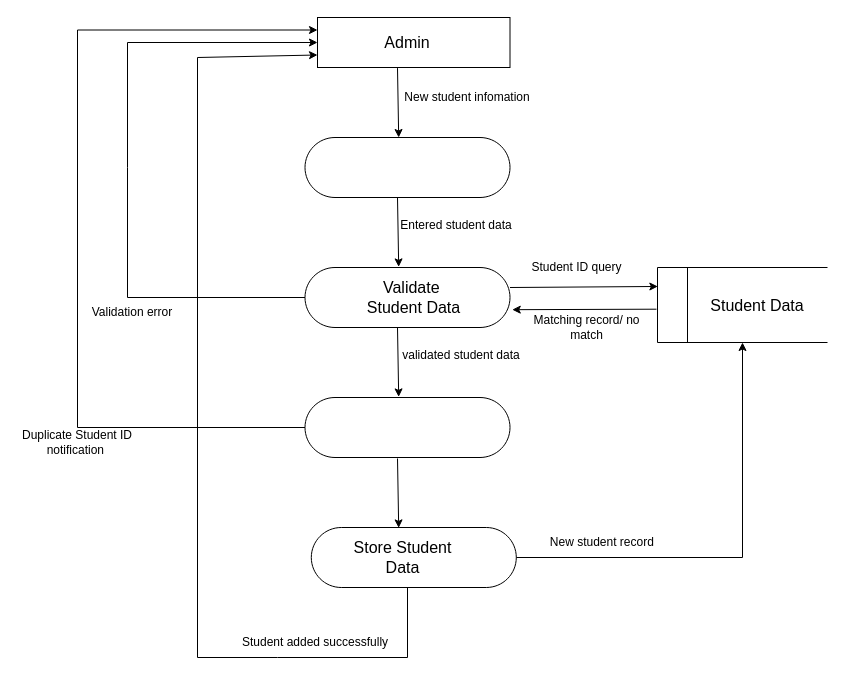
Some shapes in this 845 by 683 pixel diagram are drawn without their labels. Each missing label, with the centre of its shape:
"Capture Student Information" belongs at point (407, 167).
"Check Duplicate Studen ID" belongs at point (407, 427).
